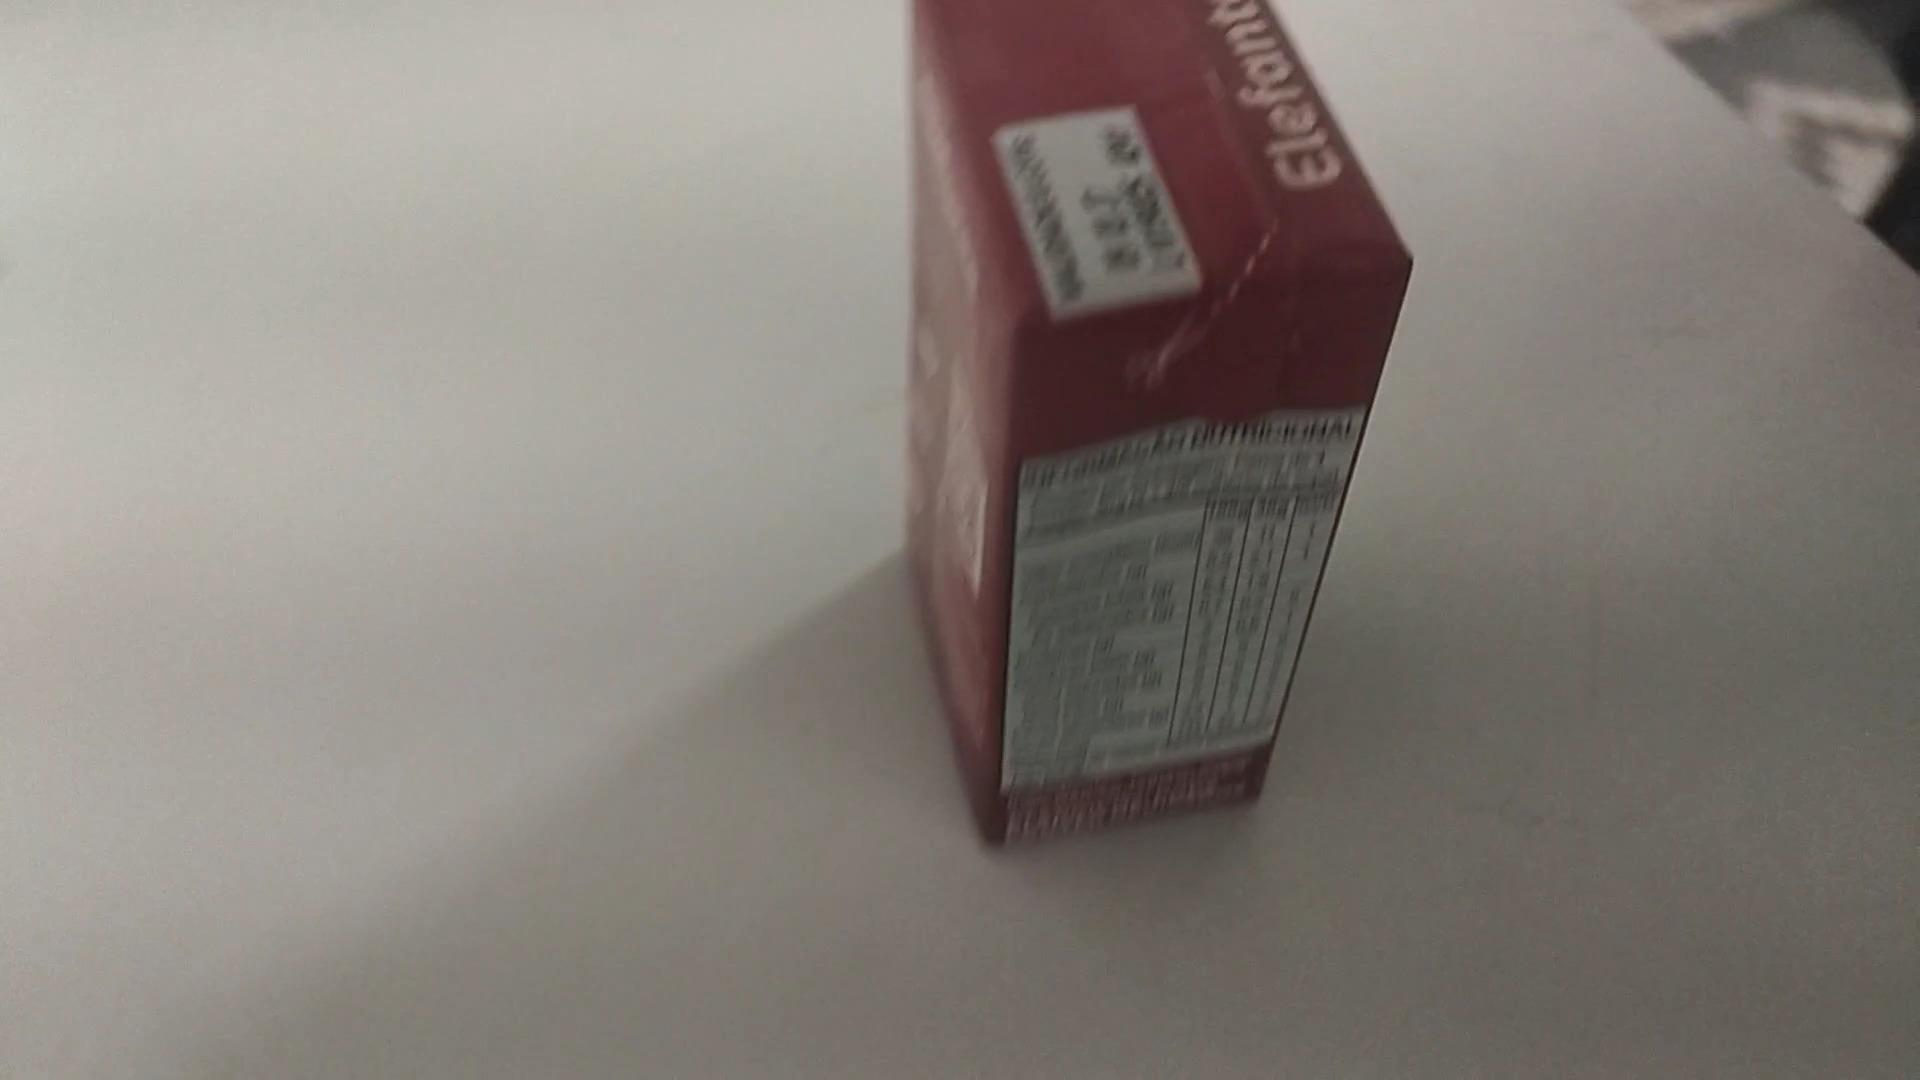tomate: (880, 0, 1415, 862)
